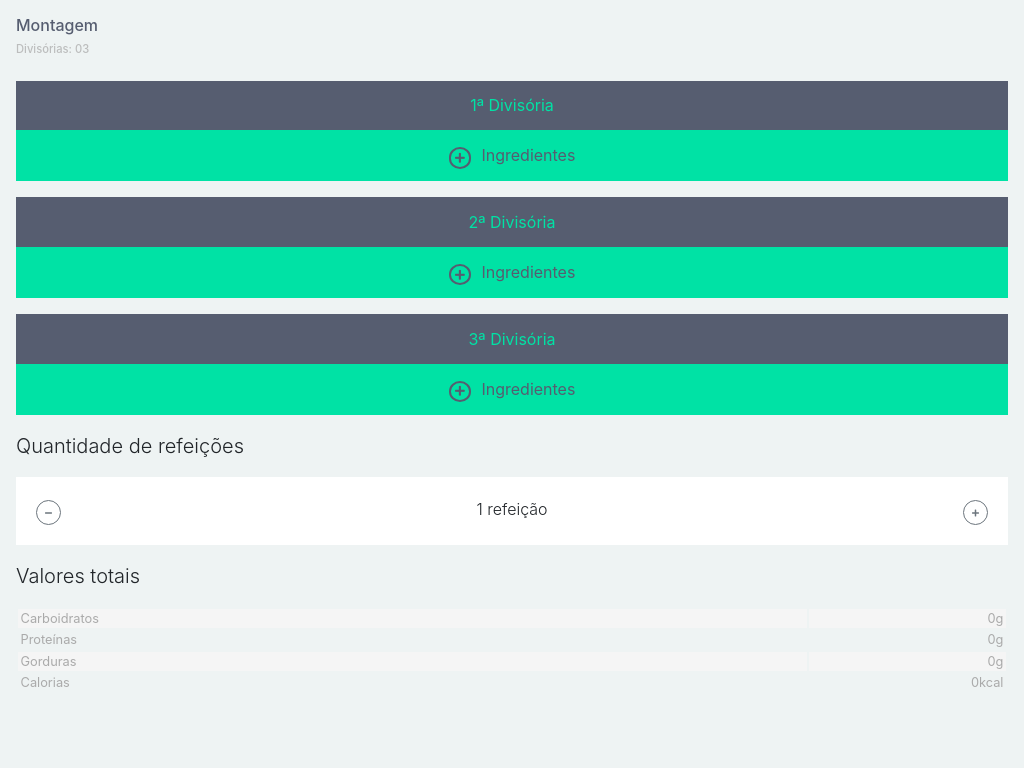
Test: Quantidade de refeições › Botão adicionar deve aumentar a quantidade de refeições
Step 1. Click the button with test id "plusMeal" → (976, 513), box 963,500 -> 988,525
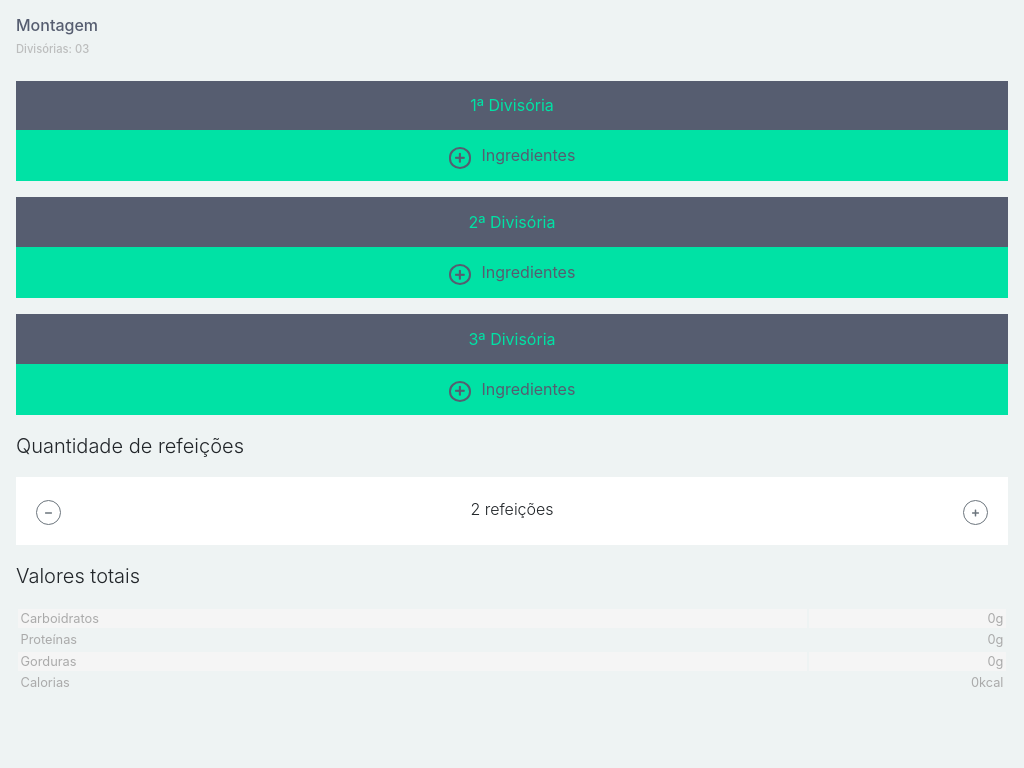
Expected: the text with test id "mealText" reads "2 refeições", 470,499 -> 554,519
